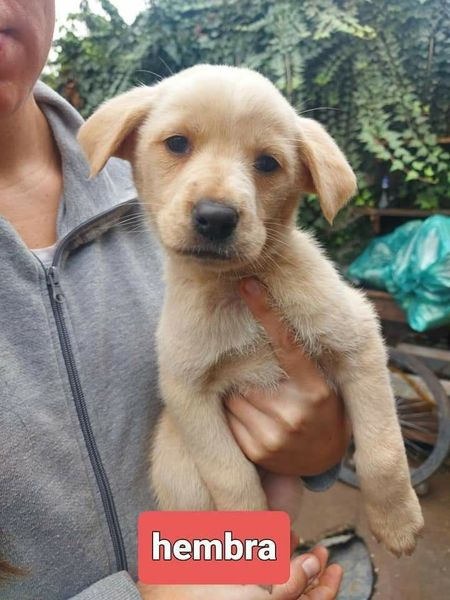dog: (73, 55, 431, 510)
